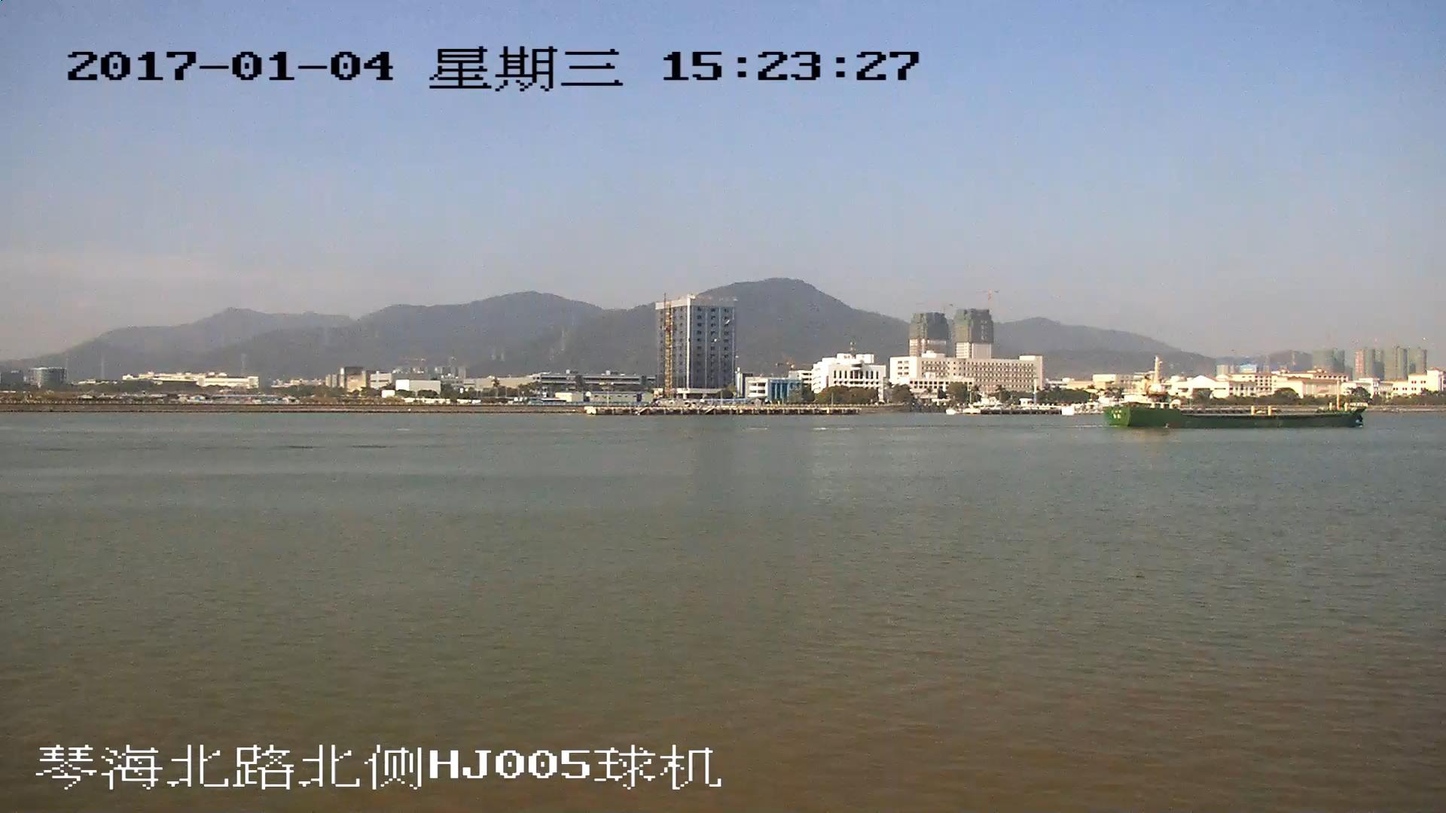general cargo ship: (1103, 359, 1363, 428)
